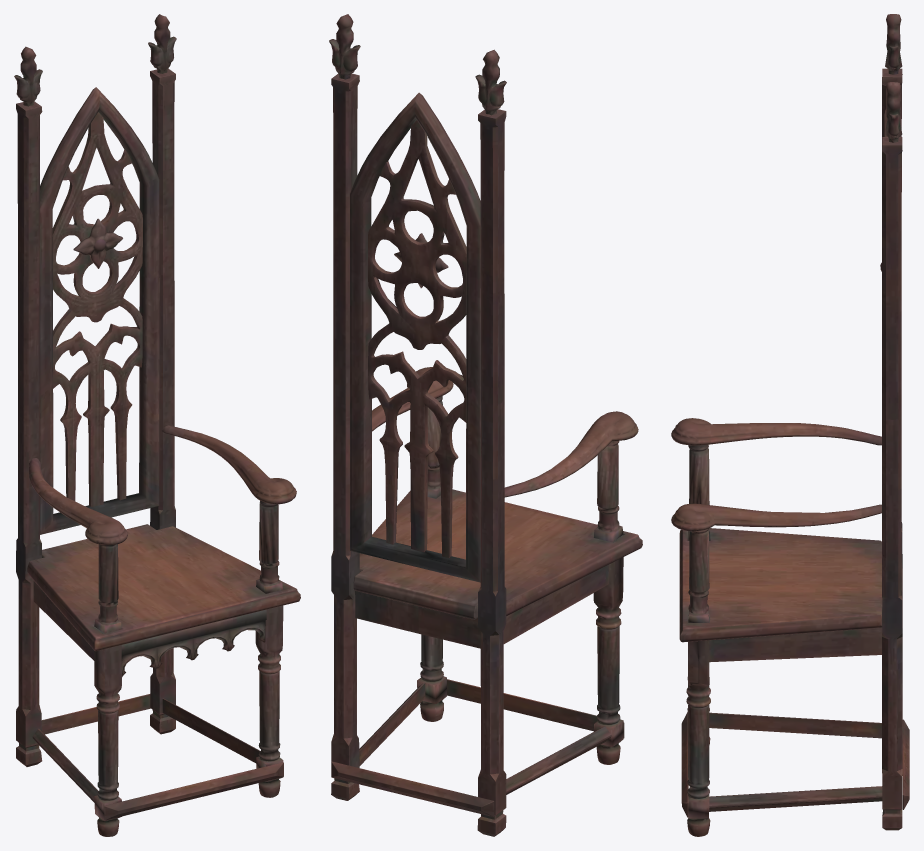
The model's file is WoodenChair_01.5f4fb04e.glb.
3 views of the same model, side by side, from view 1: azimuth 30°, elevation 25°; view 2: azimuth 150°, elevation 25°; view 3: azimuth 270°, elevation 25° (orthographic). The views are drawn at different scales.
Parts seen in each view (by area): view 1: WoodenChair_01; view 2: WoodenChair_01; view 3: WoodenChair_01.
Boxes of the visible parts, <box> form: WoodenChair_01: <box>14,14,300,836</box>; WoodenChair_01: <box>329,14,642,836</box>; WoodenChair_01: <box>671,14,909,836</box>.
Size of the model in its own units: 0.6881 by 2.27 by 0.6584.
1 material, 1 textured.
